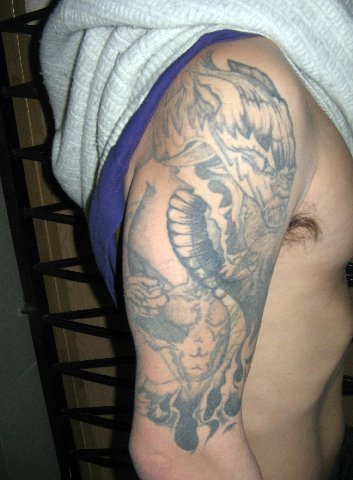tatu6_drakon: (97, 44, 280, 453)
